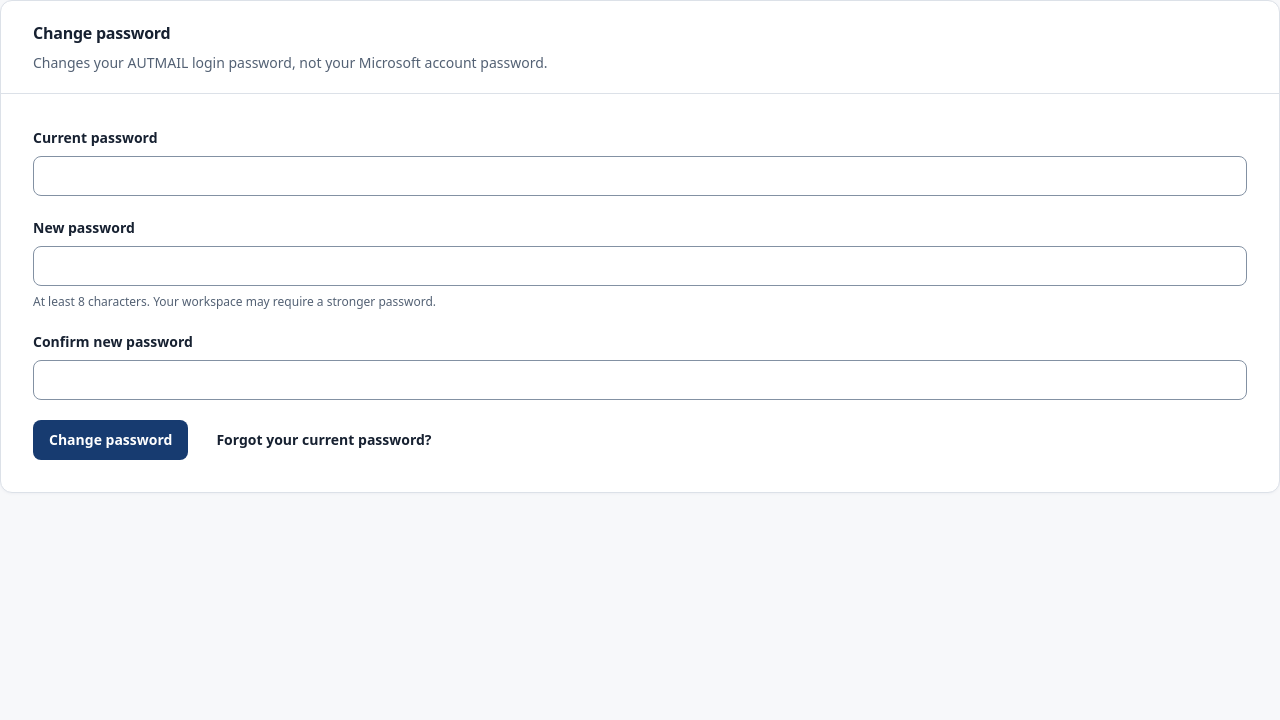
Scenario: account password change › verifies the actual login account before updating and clears successful inputs
Type "old-password" into the password field labelled "Current password".
click(640, 176); type("old-password")  # box [33,156,1247,196]
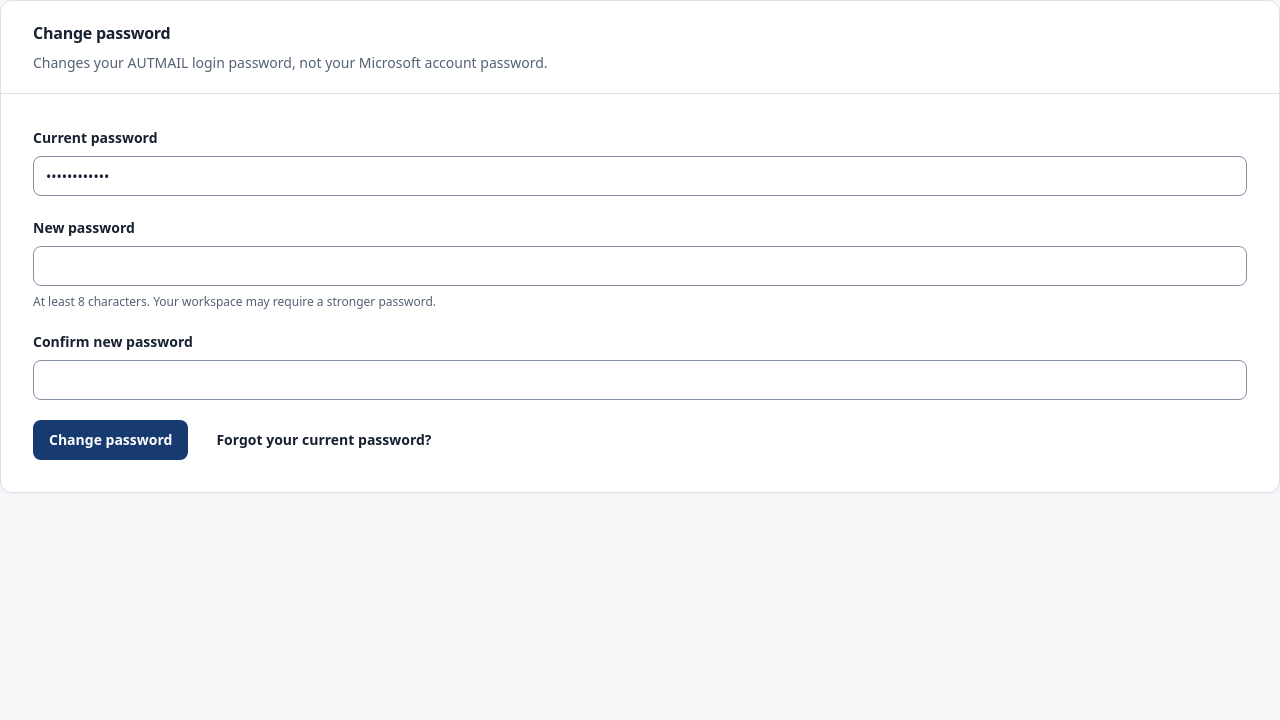
Type "new-password" into the password field labelled "New password".
click(640, 266); type("new-password")  # box [33,246,1247,286]
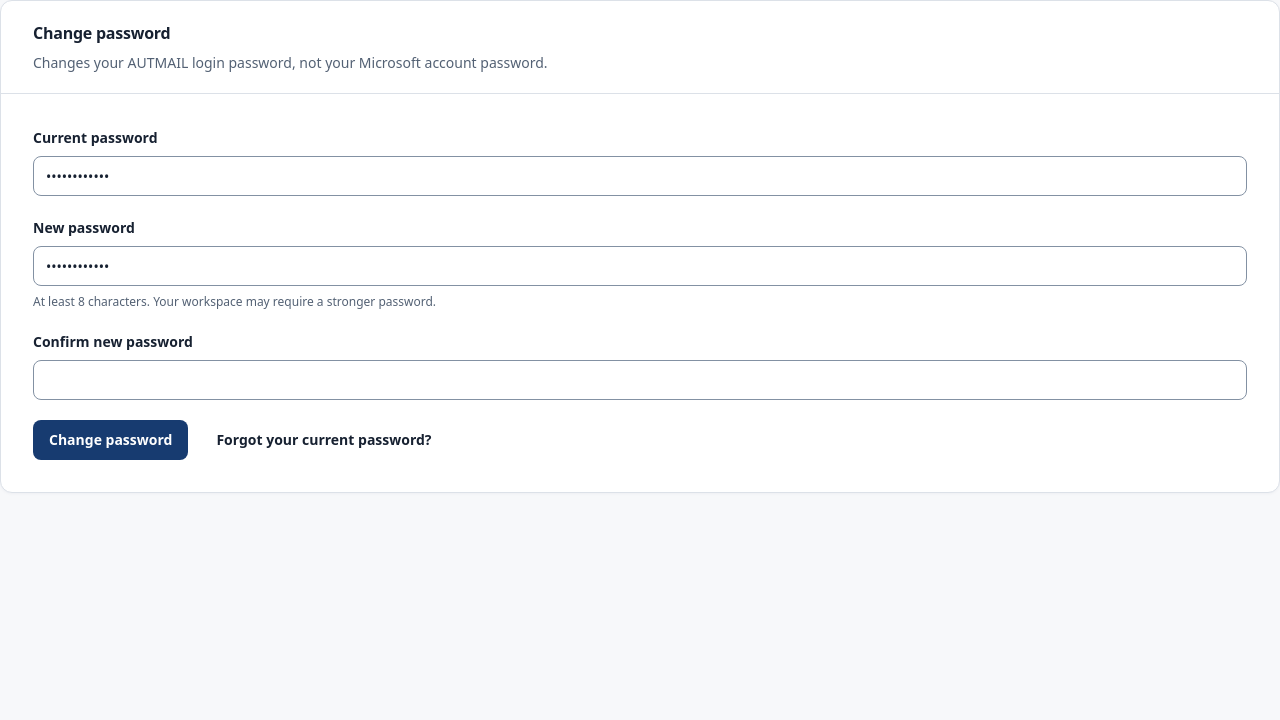
Type "new-password" into the password field labelled "Confirm new password".
click(640, 380); type("new-password")  # box [33,360,1247,400]
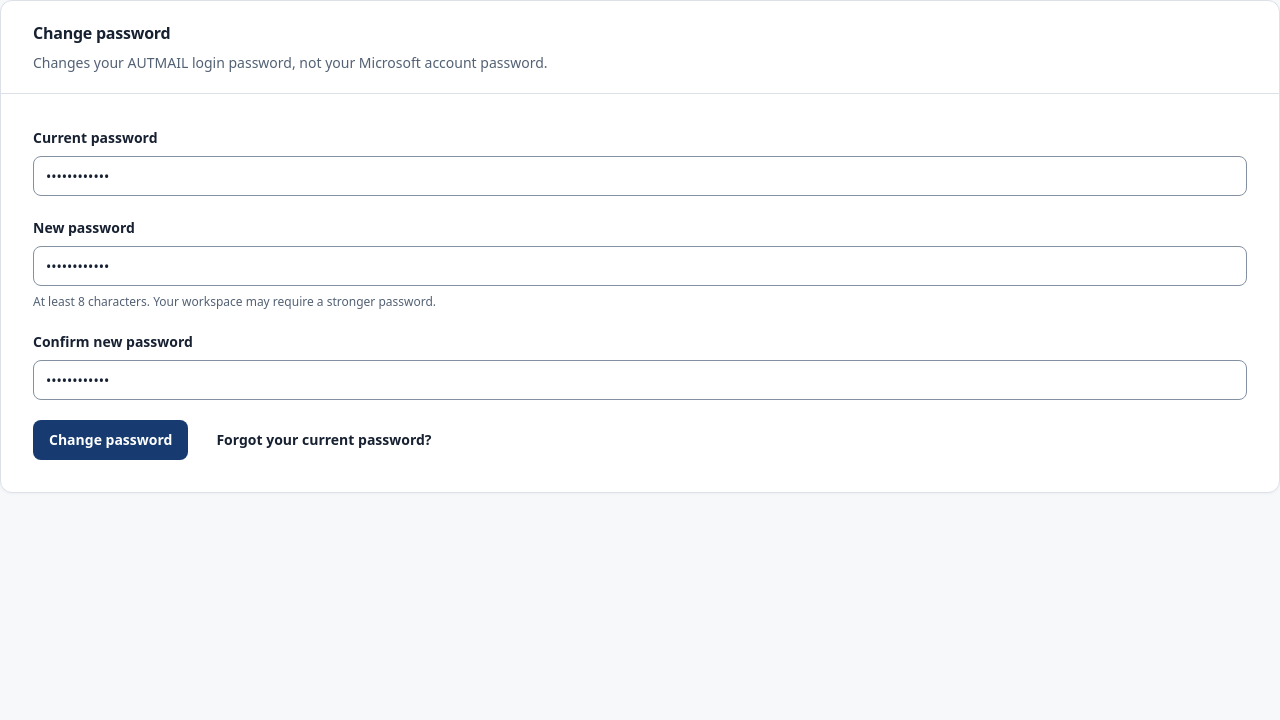
Click the button "Change password".
click(111, 440)  # box [33,420,188,460]
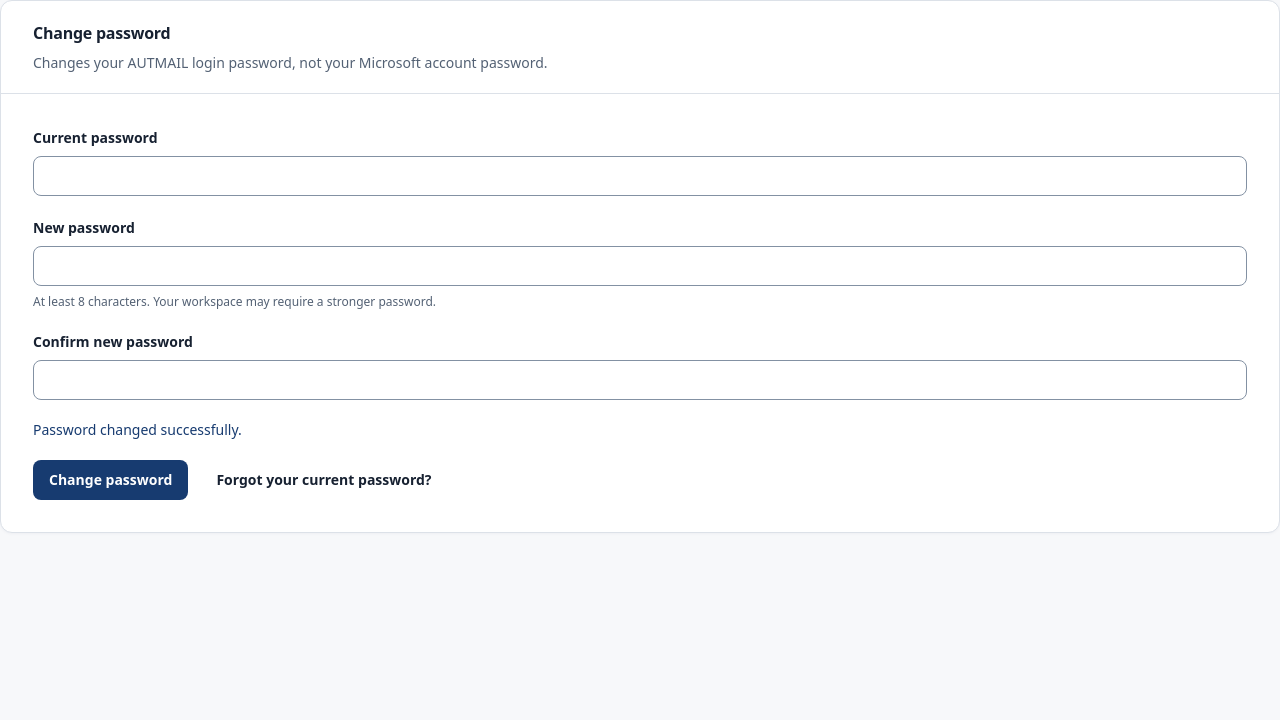
Now the text "Password changed successfully." is shown, box [33,420,242,439]
Now the password field labelled "Current password" is empty, box [33,156,1247,196]
Now the password field labelled "New password" is empty, box [33,246,1247,286]
